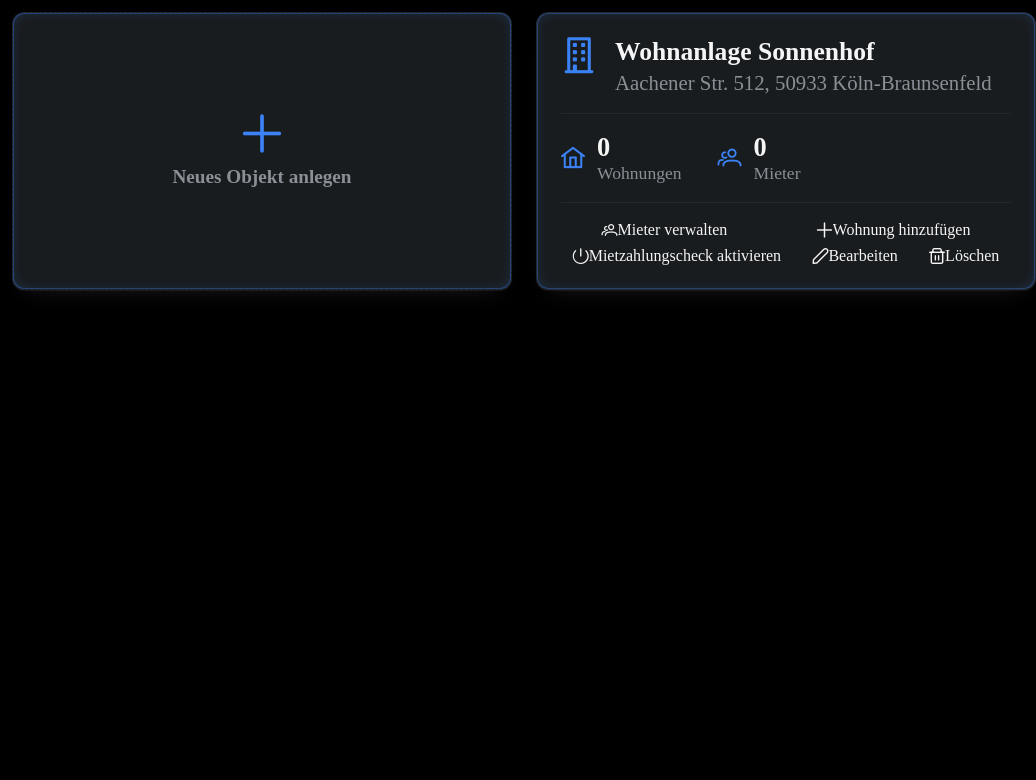
Test case: PropertyList › shows an error message when deleting a property fails
Click the button "Löschen" at (964, 256), box [917,247,1011,265]
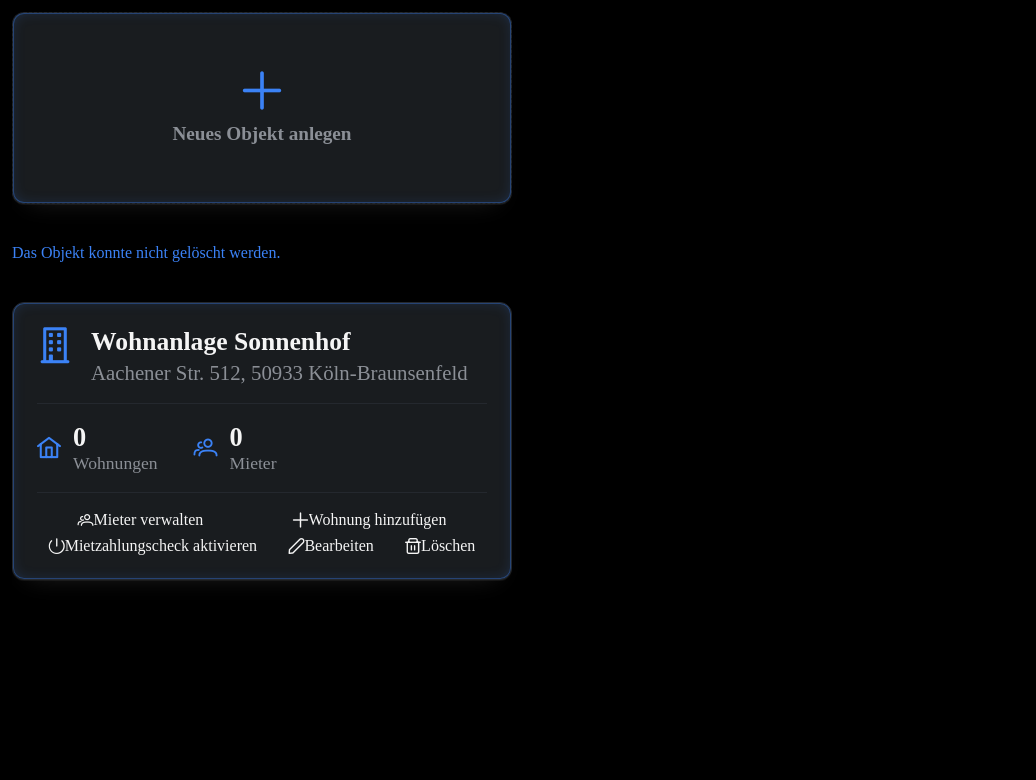
Now the text "Das Objekt konnte nicht gelöscht werden." is shown, box [12,244,280,261]
